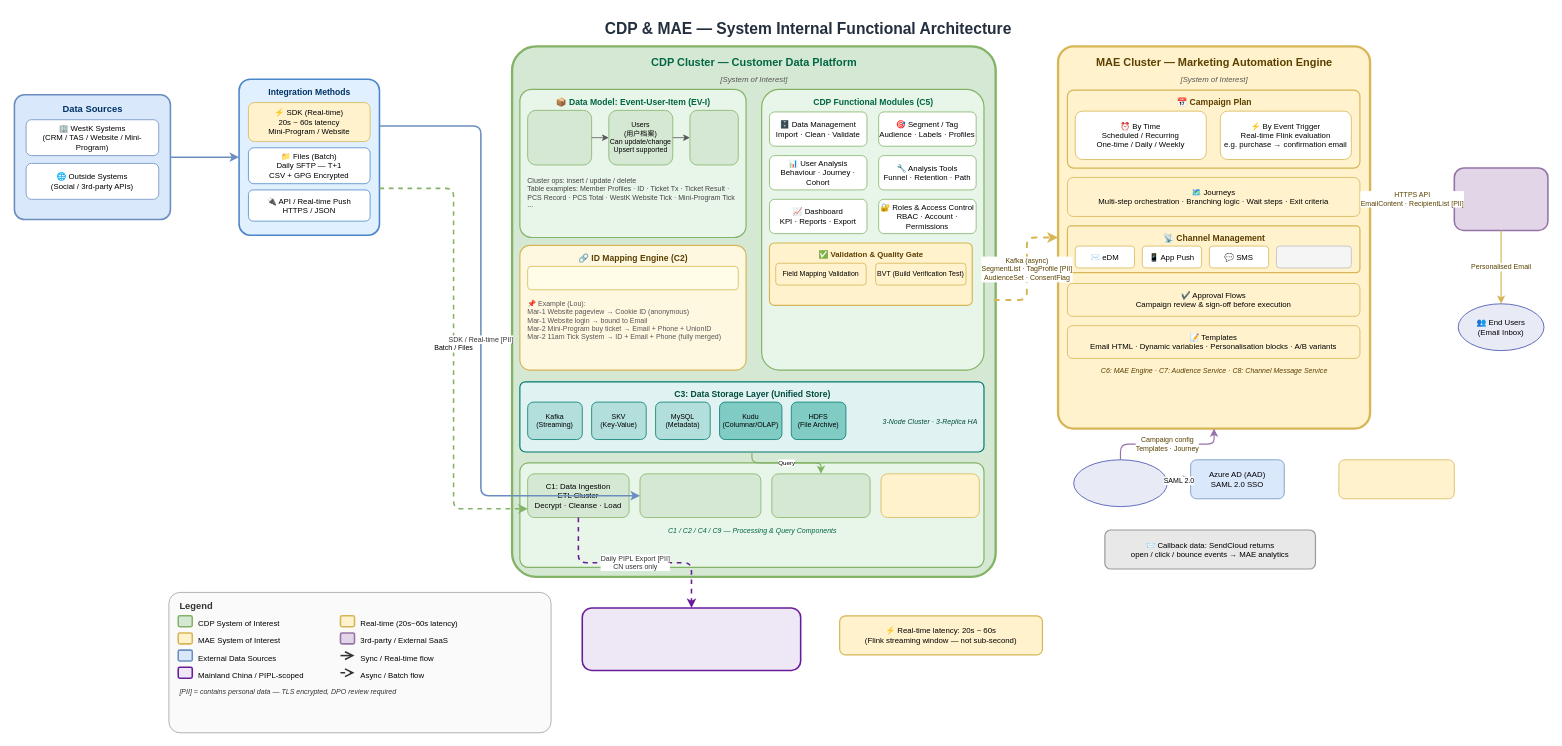
This 1562x746 diagram has some shape labels left out. Here are the shapes that lost their labels. From the top down, the box of each, then its label:
(527, 110, 592, 165): Events (行为事件) Append-only History cannot change
(689, 110, 738, 165): Item (物品维度) Reference data Product / Event
(1453, 167, 1548, 231): SendCloud External ESP (SaaS)
(1276, 245, 1351, 268): ... Future
(527, 266, 738, 290): Cookie ID → Email → Phone → UnionID → MUID → Login ID
(639, 473, 761, 518): C2: Data Access & ID Resolution Nginx · ID-Mapping · Data Loader
(771, 473, 870, 518): C4: Query Engine Impala / Luman Funnel · Cohort · Report
(880, 473, 979, 518): C9: SFO Online Service Sub-ms · SKV · High QPS Personalisation API
(1073, 459, 1167, 507): 👤 WestK Employee (CDP / MAE Web UI)
(1338, 459, 1454, 499): ↑ External downstream systems call C9 SFO for real-time user attribute lookups
(581, 607, 801, 671): 🇨🇳 SFTP Server (SZ Env) Mainland China VPC PIPL Compliance — data at rest in CN
